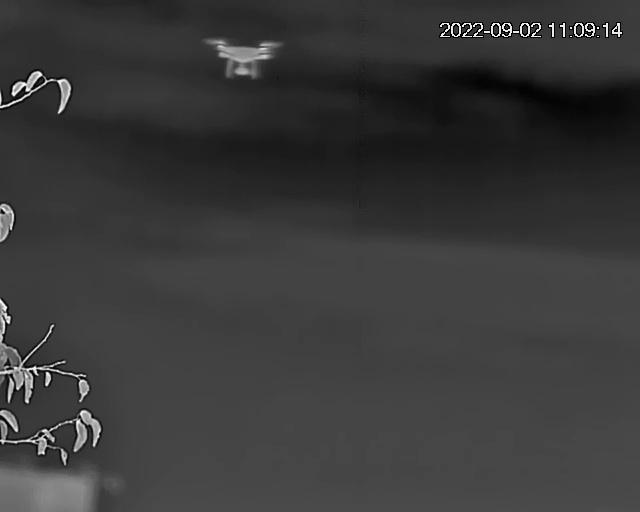DJI-Phantom: (207, 38, 284, 81)
